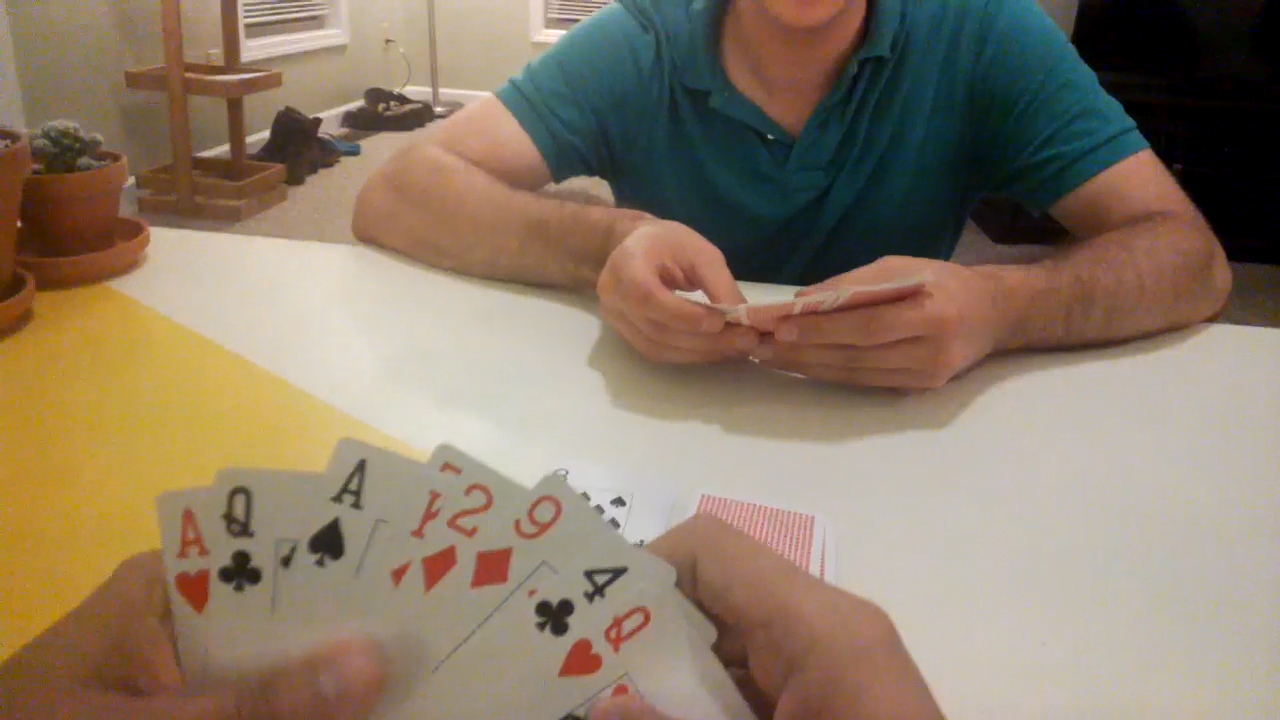hand: (587, 514, 943, 718), (0, 542, 397, 718), (749, 254, 1010, 390), (590, 216, 750, 367)
